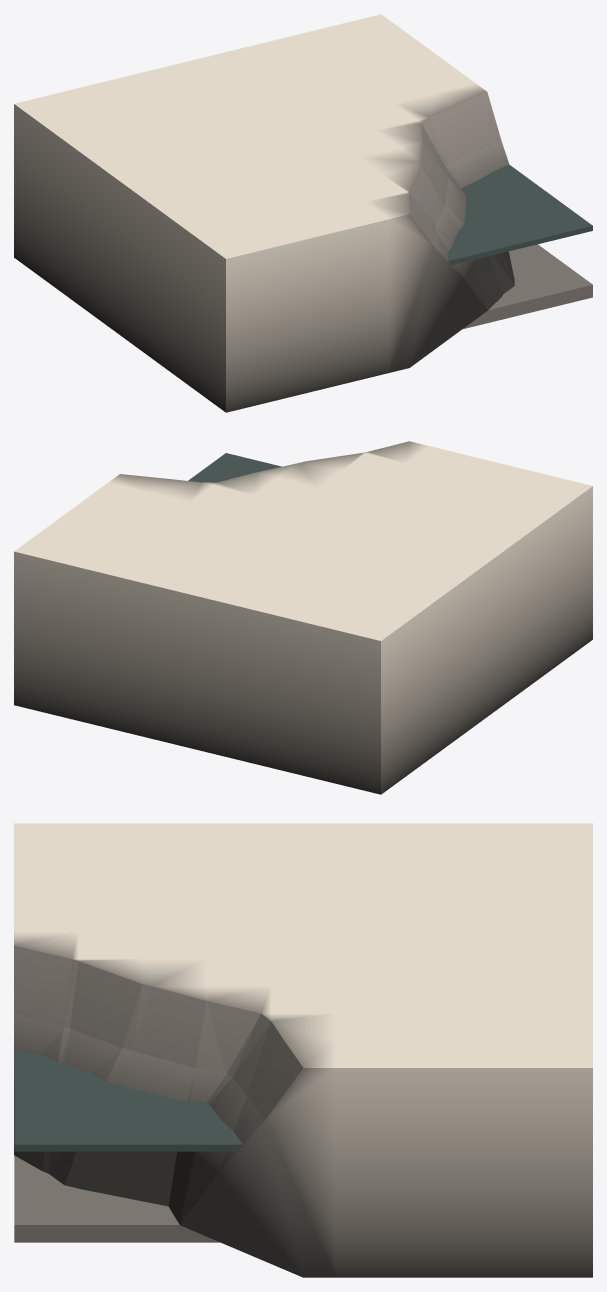
File: SM_VKI_Ground_Stream_OXOO_Q11.fbx
3 renders of one model, top to bottom at view 1: azimuth 30°, elevation 25°; view 2: azimuth 150°, elevation 25°; view 3: azimuth 270°, elevation 25°, orthographic. The views are drawn at different scales.
Parts seen in each view (by area): view 1: SM_VKI_Ground_Stream_OXOO_Q11.001; view 2: SM_VKI_Ground_Stream_OXOO_Q11.001; view 3: SM_VKI_Ground_Stream_OXOO_Q11.001.
Part boxes in pixels (x1,y1,x2,y2): SM_VKI_Ground_Stream_OXOO_Q11.001: (14, 14, 592, 412); SM_VKI_Ground_Stream_OXOO_Q11.001: (14, 441, 592, 794); SM_VKI_Ground_Stream_OXOO_Q11.001: (14, 823, 592, 1277).
Size of the model in its own units: 1.5 by 0.6 by 1.5.
